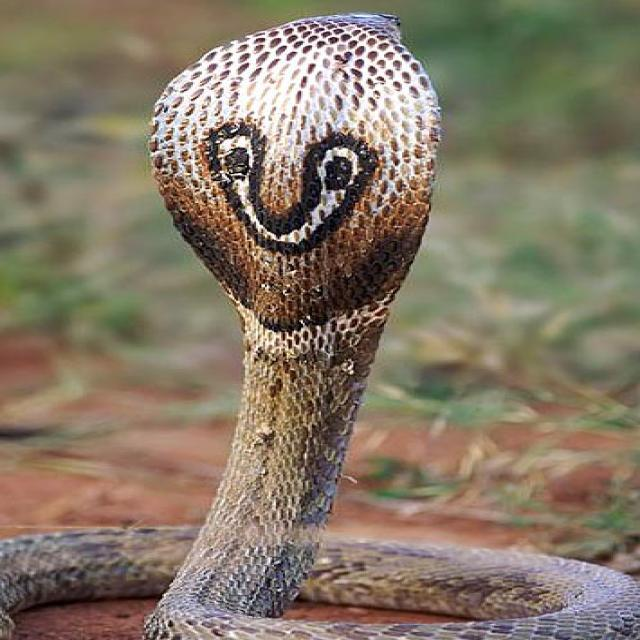Snake: (1, 9, 636, 639)
